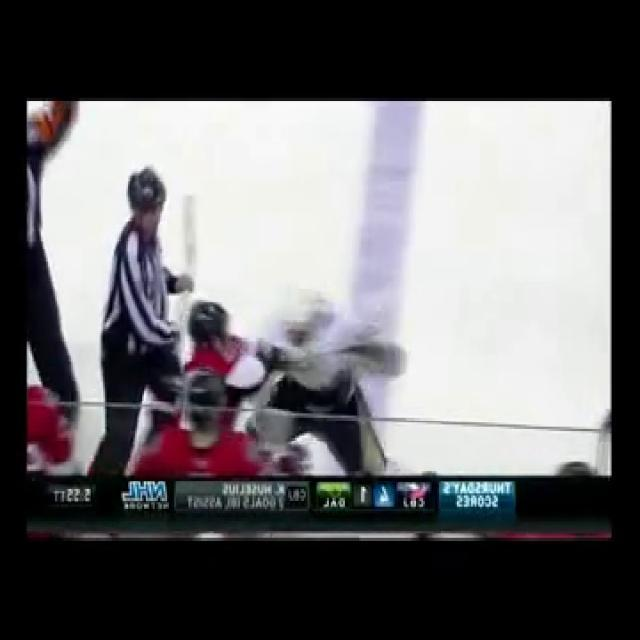non-violence: (91, 167, 194, 475), (29, 97, 81, 416), (126, 379, 281, 475), (26, 382, 86, 478)
violence: (185, 289, 405, 451)
